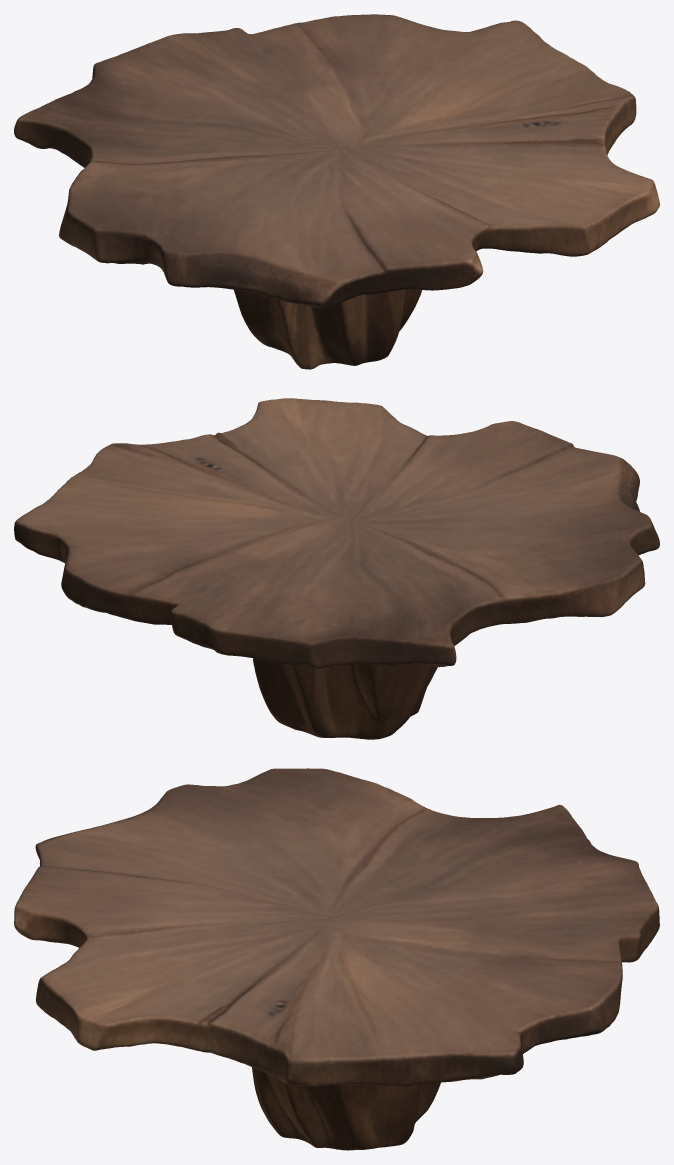
The model's file is coffeeTable.glb.
The picture shows the model from 3 angles, top to bottom: view 1: azimuth 30°, elevation 25°; view 2: azimuth 150°, elevation 25°; view 3: azimuth 270°, elevation 25°; orthographic projection. The views are drawn at different scales.
Visible parts, largest first — view 1: world; view 2: world; view 3: world.
Part boxes in pixels (x1=…): world: x1=14, y1=14, x2=659, y2=369; world: x1=14, y1=398, x2=659, y2=739; world: x1=14, y1=768, x2=659, y2=1150.
Size of the model in its own units: 1 by 0.3553 by 0.9594.
1 material, 1 textured.
